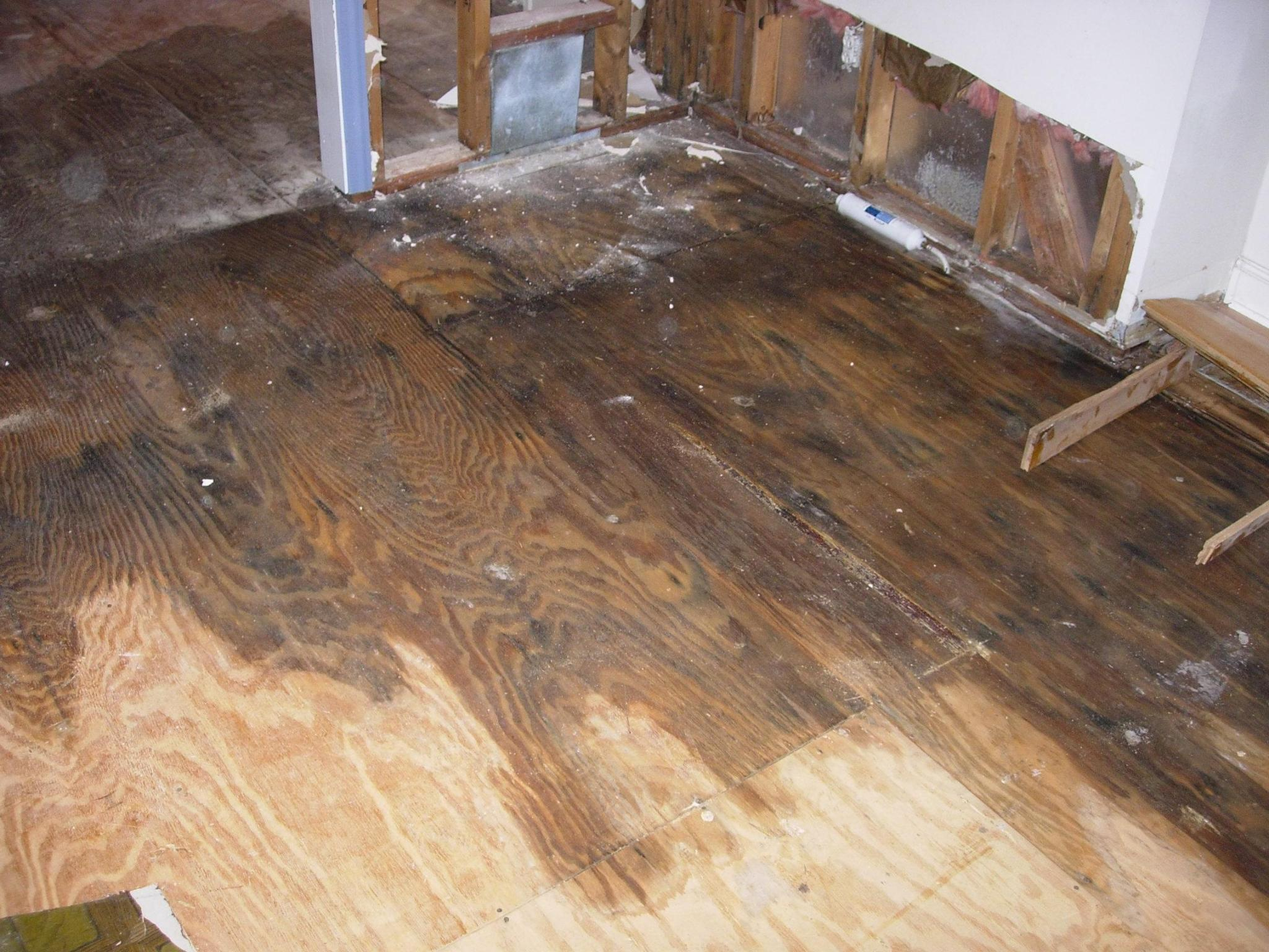water accumulation: (0, 21, 1269, 916)
